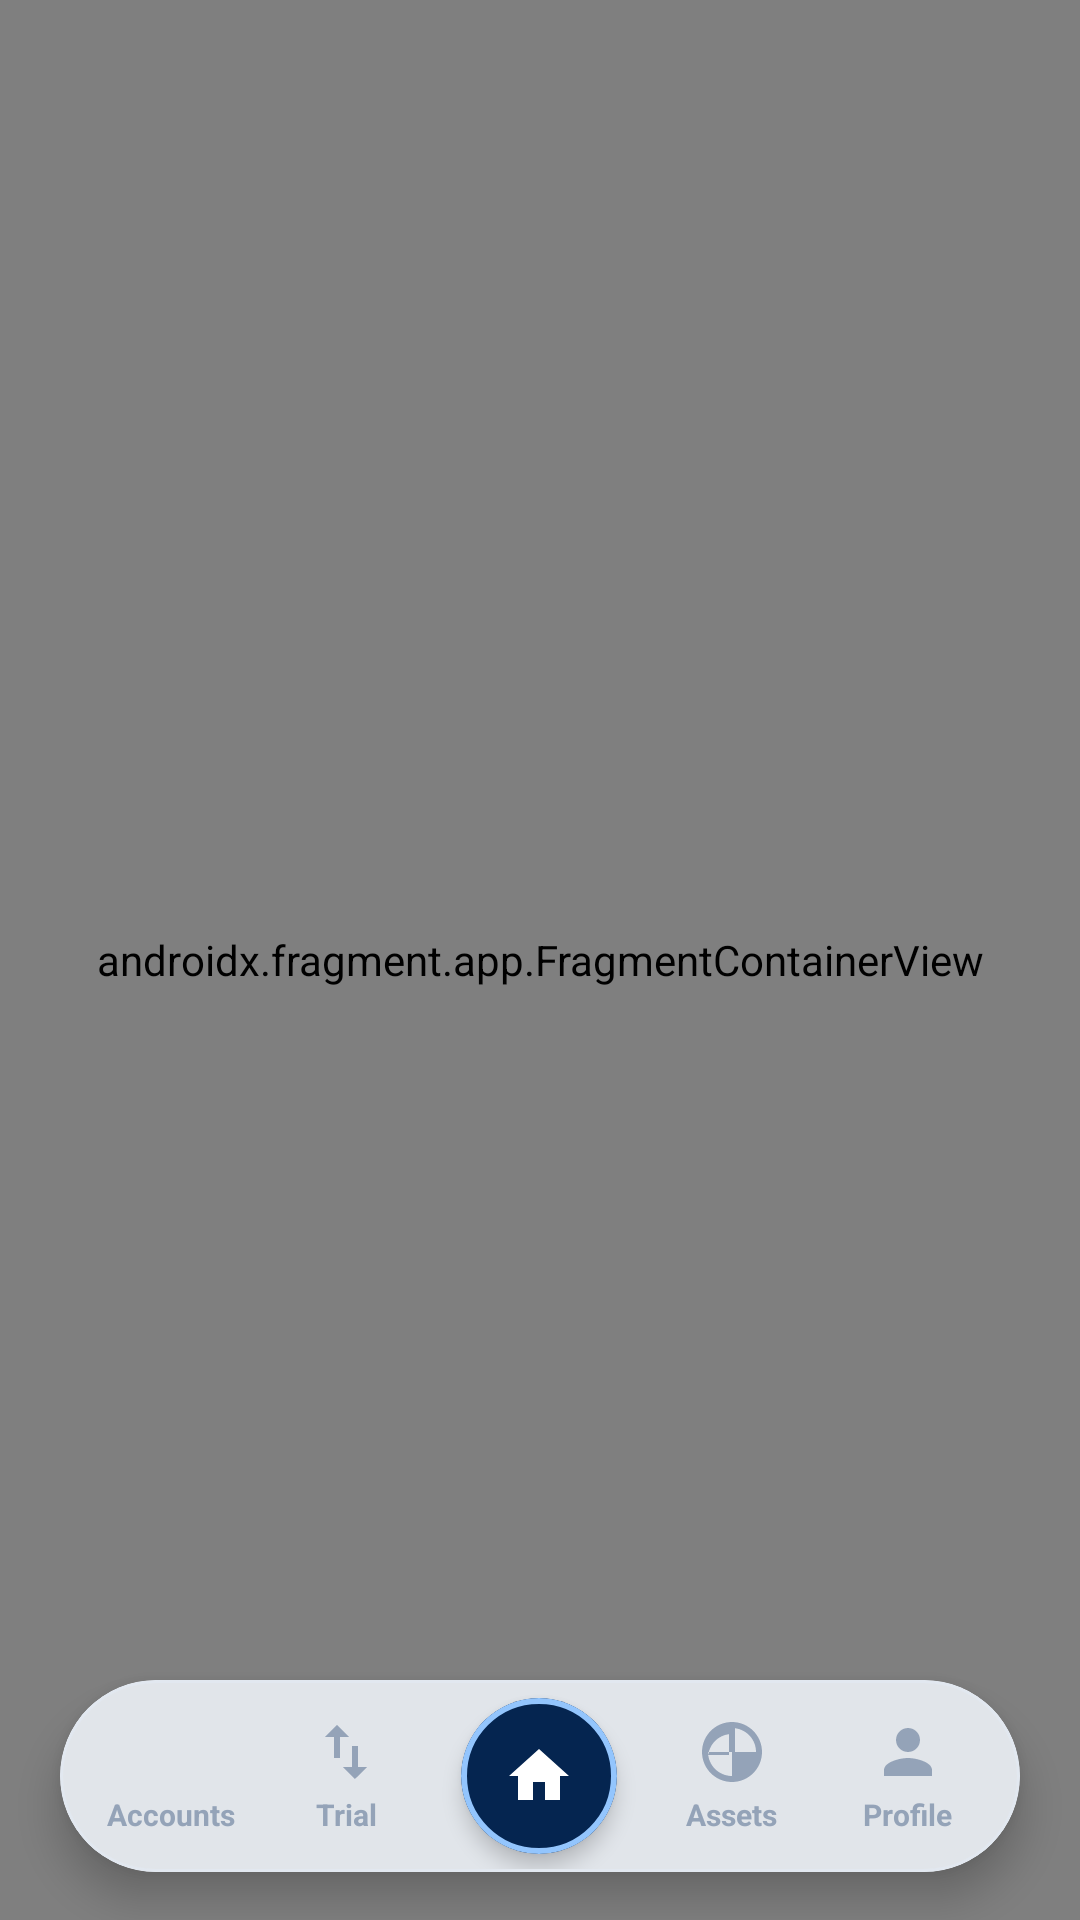

Screen size 1080×1920. Icon name, then its box in pixels as [x1=x1, y1=y1, x2=x2, y2=y2]:
home: [x1=509, y1=1749, x2=569, y2=1800]
pie chart: [x1=702, y1=1722, x2=762, y2=1782]
transactions: [x1=325, y1=1725, x2=367, y2=1779]
